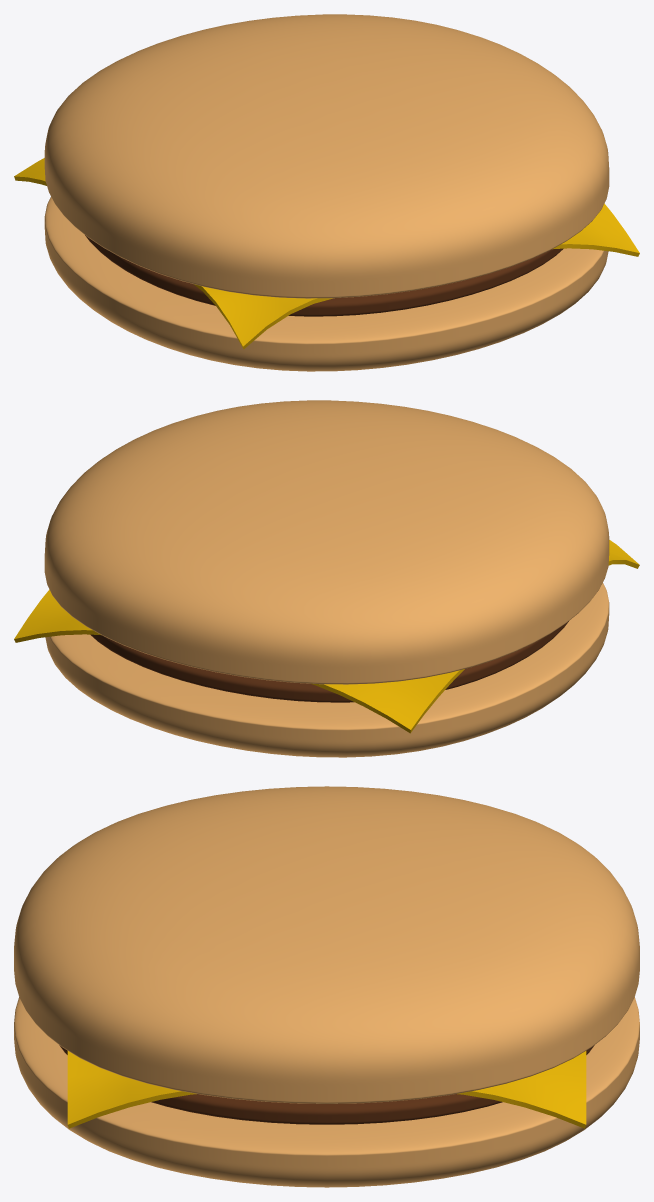
Rendered from hamburger.glb.
The picture shows the model from 3 angles, top to bottom: view 1: azimuth 30°, elevation 25°; view 2: azimuth 150°, elevation 25°; view 3: azimuth 270°, elevation 25°; orthographic projection. The views are drawn at different scales.
Parts seen in each view (by area): view 1: Cube.003, Cube.001, Cube.002, Plane.001; view 2: Cube.003, Cube.001, Plane.001, Cube.002; view 3: Cube.003, Cube.001, Plane.001, Cube.002.
Boxes of the visible parts, x1,y1,x2,y2 form: Cube.003: (44, 14, 609, 298); Cube.001: (44, 197, 608, 371); Cube.002: (85, 235, 563, 316); Plane.001: (14, 158, 639, 348); Cube.003: (44, 400, 609, 684); Cube.001: (45, 583, 609, 757); Plane.001: (14, 540, 639, 733); Cube.002: (90, 621, 568, 702); Cube.003: (14, 786, 639, 1103); Cube.001: (14, 997, 639, 1187); Plane.001: (67, 1051, 586, 1128); Cube.002: (59, 1045, 594, 1124).
Size of the model in its own units: 9.3 by 3.57 by 9.3.
